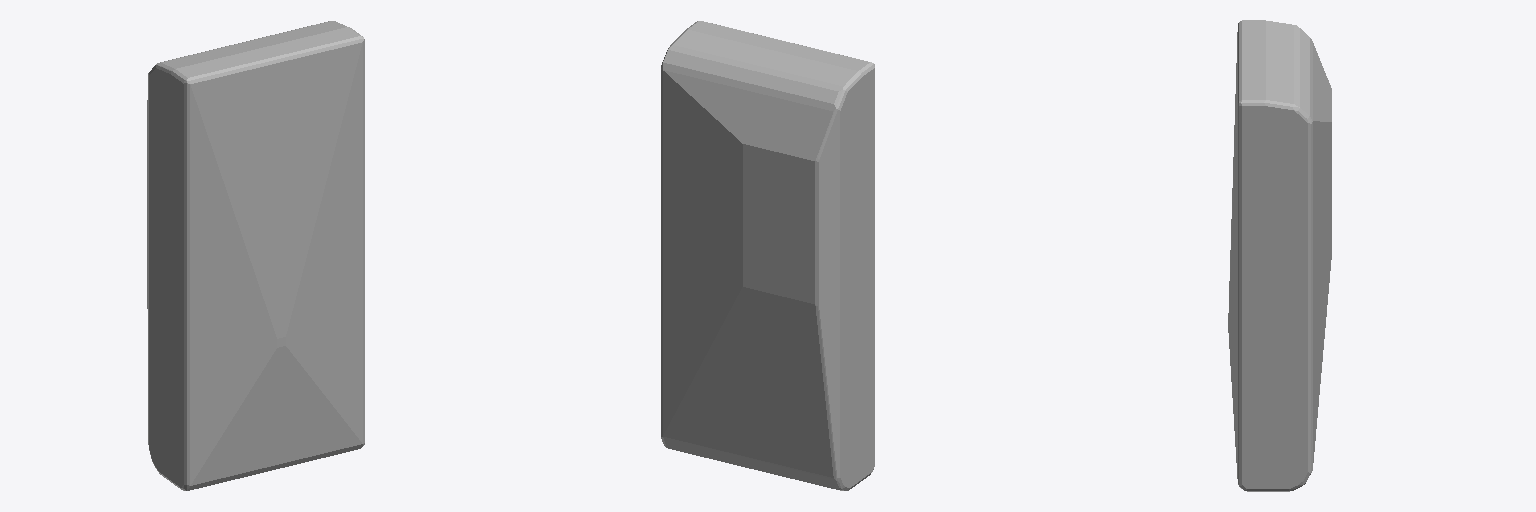
The robot description file, URDF, robot "root":
<?xml version="1.0"?>
<robot name="root">
  <link name="base_link">
    <visual>
      <origin xyz="0 0 0" rpy="0 0 0" />
      <geometry>
        <mesh filename="../meshes/unidex_sem_CellPhone-4a17ee1627cc0242c9e8d695b1dfdde_010.obj" scale="1.0000E+00 1.0000E+00 1.0000E+00" />
      </geometry>
      <material name="">
        <color rgba="7.50E-01 7.50E-01 7.50E-01 1" />
      </material>
    </visual>
    <collision>
      <origin xyz="0 0 0" rpy="0 0 0" />
      <geometry>
        <mesh filename="../meshes/unidex_sem_CellPhone-4a17ee1627cc0242c9e8d695b1dfdde_010.obj" scale="1.0000E+00 1.0000E+00 1.0000E+00" />
      </geometry>
    </collision>
  </link>
</robot>

--- Render facts (derived) ---
3 views of the same robot in one strip: view 1: azimuth 30°, elevation 25°; view 2: azimuth 150°, elevation 25°; view 3: azimuth 270°, elevation 25° (orthographic).
Model root with 1 links and 0 joints (none), rooted at base_link, posed all joints at 0.
Visible links, largest first — view 1: base_link; view 2: base_link; view 3: base_link.
Link boxes in pixels (left/top/right/bottom): base_link: left=147, top=21, right=364, bottom=490; base_link: left=661, top=21, right=874, bottom=490; base_link: left=1228, top=20, right=1331, bottom=491.
Size in the robot's own frame: 0.081 by 0.0424 by 0.1773 metres.
Meshes: 1 distinct files referenced, 1 mesh visuals loaded (1 OBJ).
